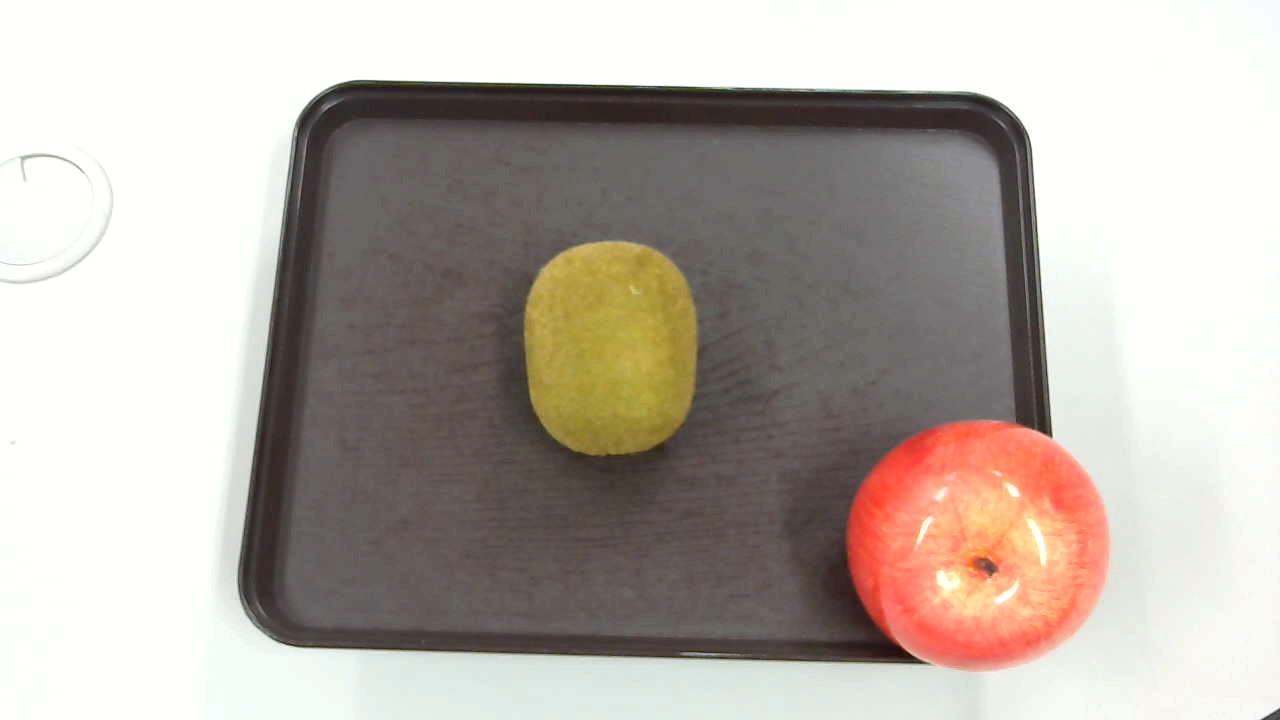kiwi fruit: (511, 237, 701, 463)
red apple: (839, 412, 1112, 668)
